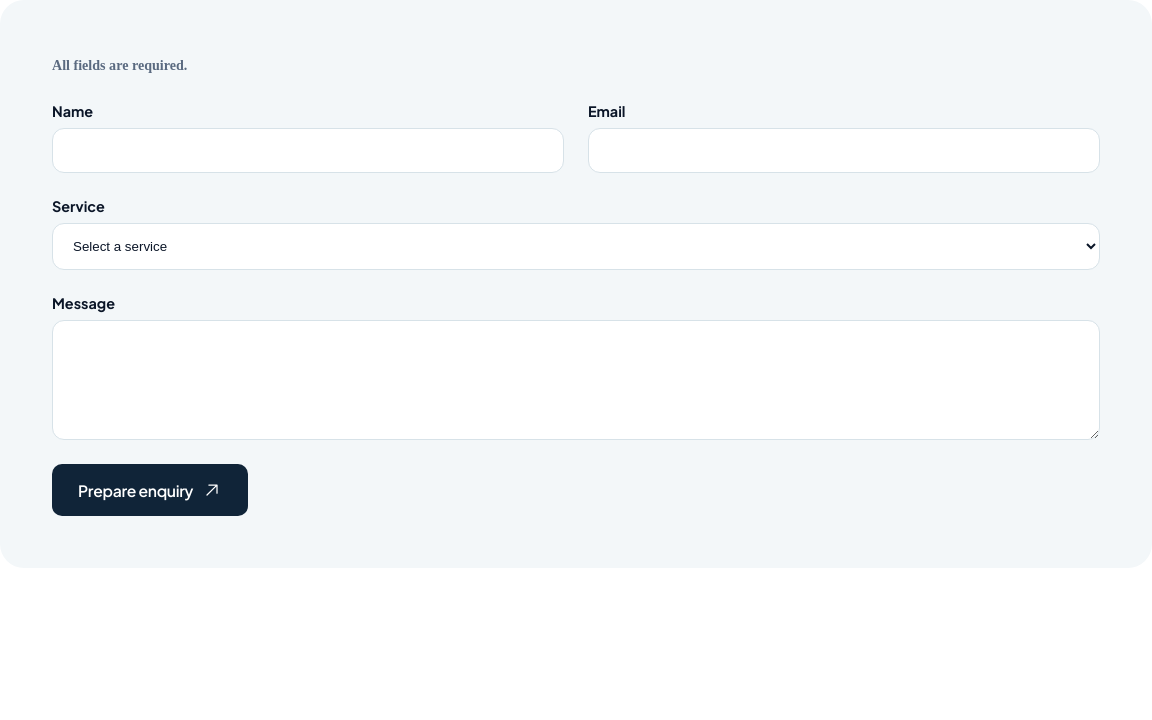
Test case: ContactForm › rejects an invalid email address
Type "not-an-email" into the field labelled "Email" at (844, 151), box [588, 128, 1100, 173]
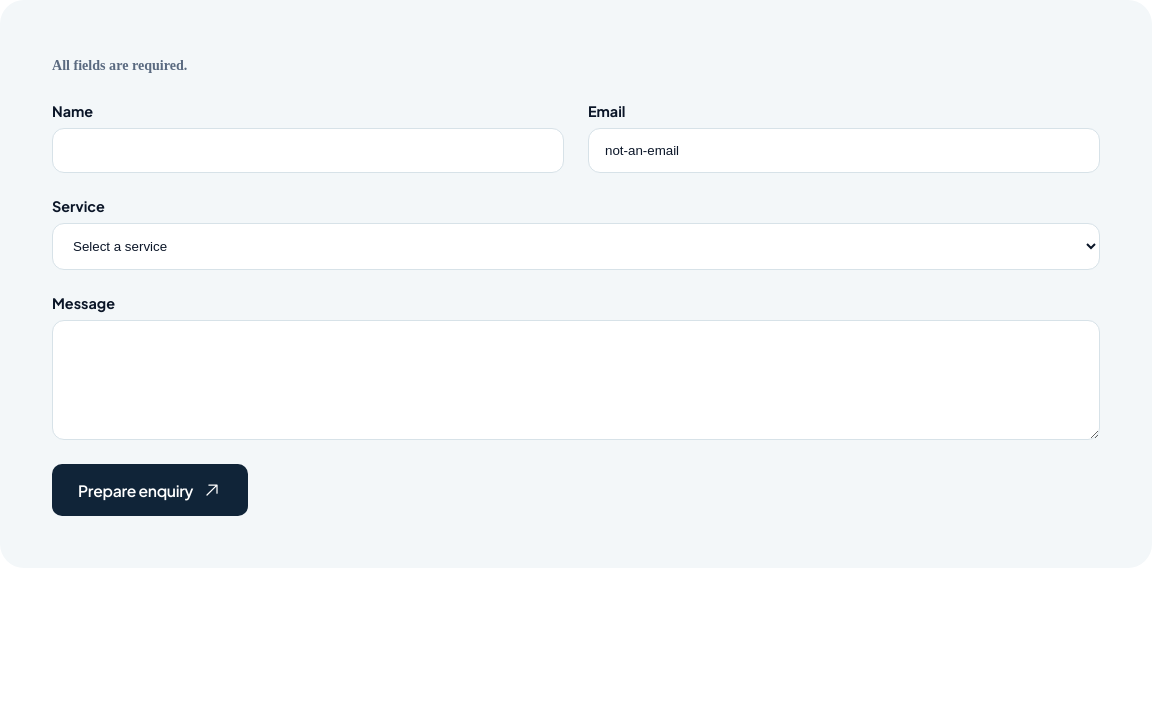
Submit the form "Prepare enquiry"
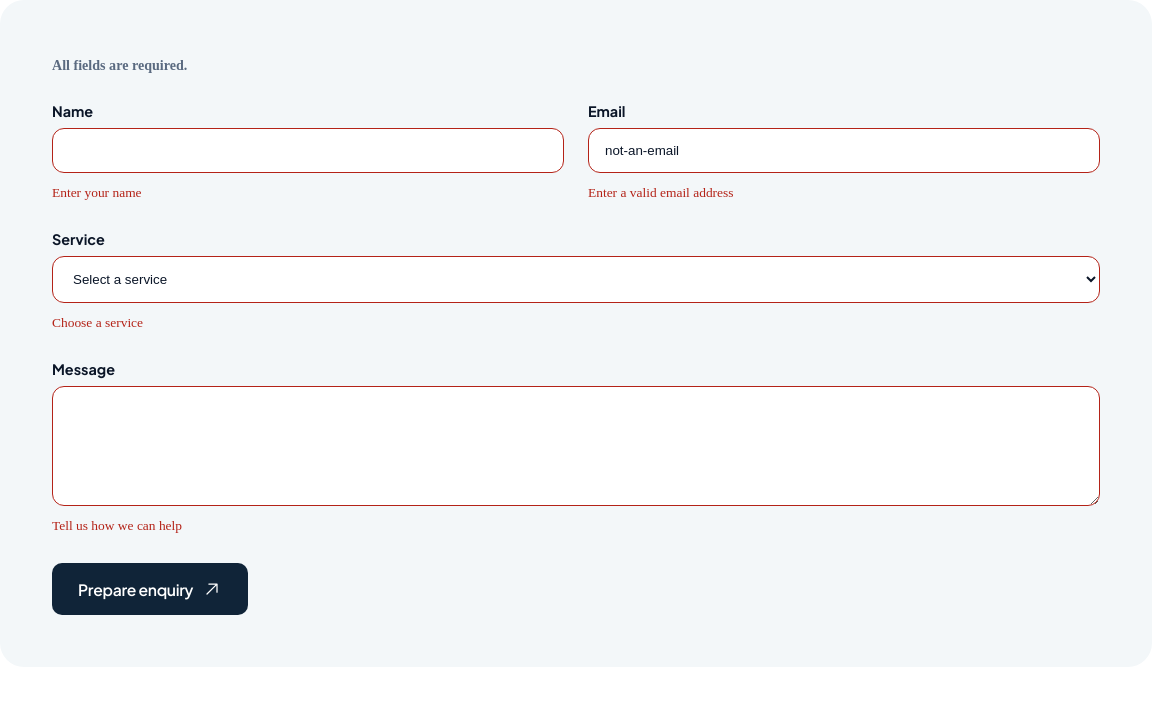
Result: the text "Enter a valid email address" is shown at [588, 185, 734, 200]
